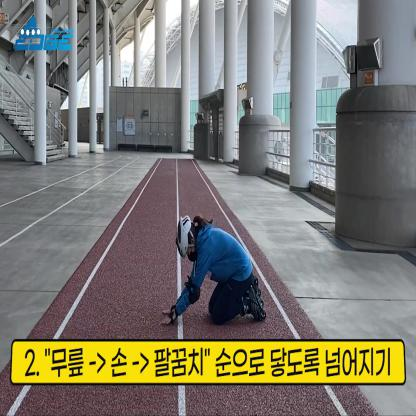Fall_Down: (161, 222, 262, 331)
